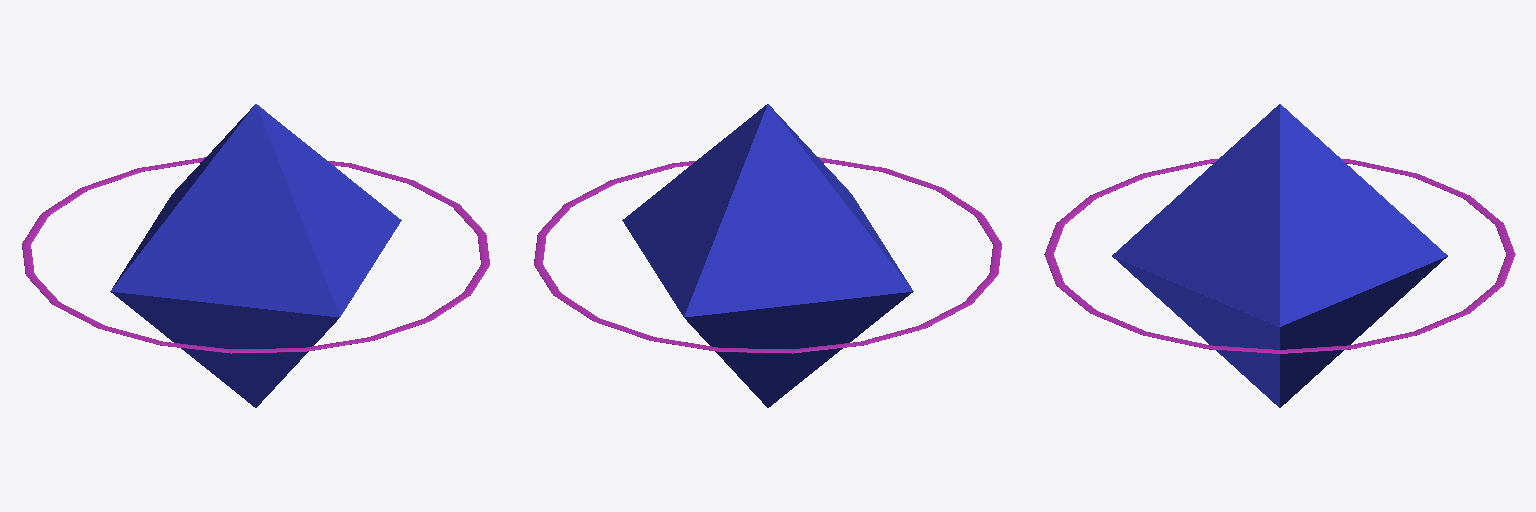
3 renders of one model, left to right at view 1: azimuth 30°, elevation 25°; view 2: azimuth 150°, elevation 25°; view 3: azimuth 270°, elevation 25°, orthographic.
Parts seen in each view (by area): view 1: pPyramid1, pPyramid2, pTorus1; view 2: pPyramid1, pPyramid2, pTorus1; view 3: pPyramid1, pPyramid2, pTorus1.
Boxes of the visible parts, <box> form: pPyramid1: <box>111,104,401,316</box>; pPyramid2: <box>110,225,398,407</box>; pTorus1: <box>22,157,489,353</box>; pPyramid1: <box>622,104,912,316</box>; pPyramid2: <box>625,225,913,407</box>; pTorus1: <box>534,157,1001,353</box>; pPyramid1: <box>1112,104,1447,326</box>; pPyramid2: <box>1112,256,1447,407</box>; pTorus1: <box>1044,159,1515,353</box>.
Bounding box in the file's own units: 1.98 × 1.42 × 1.98.
1 materials, 1 textured.